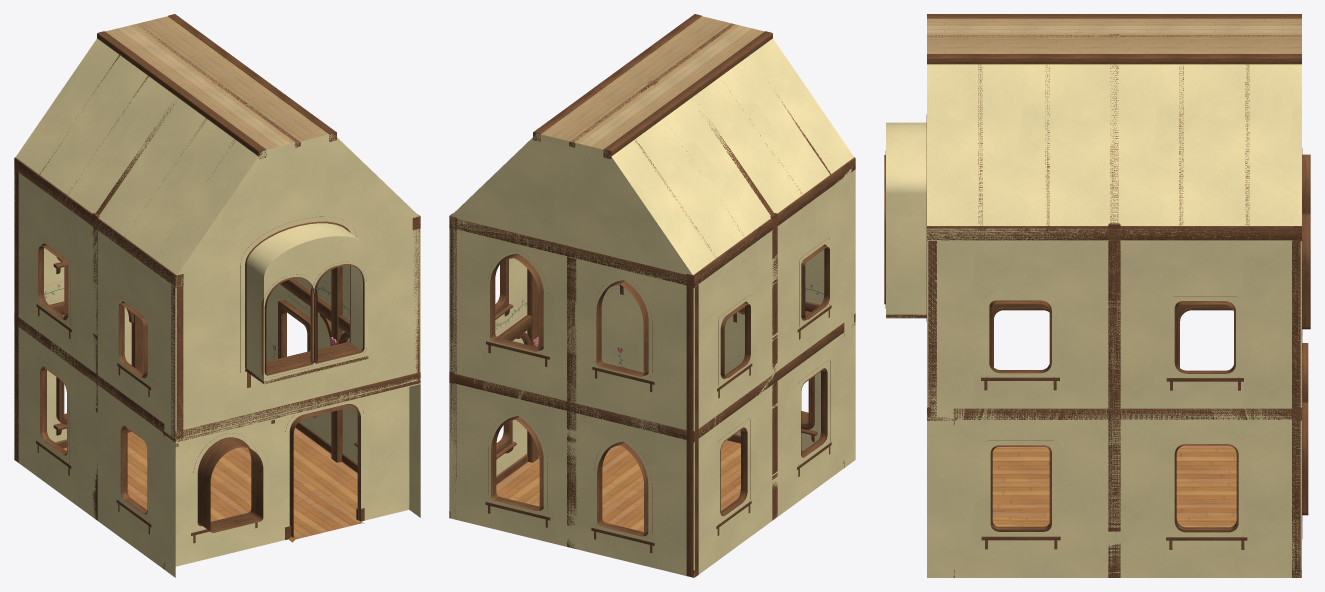
File: house_b_lining.glb
3 views of the same model, side by side, from view 1: azimuth 30°, elevation 25°; view 2: azimuth 150°, elevation 25°; view 3: azimuth 270°, elevation 25° (orthographic). The views are drawn at different scales.
Visible parts, largest first — view 1: Architecture_Walls, Architecture_Timber, Architecture_RoofPlaster, Architecture_Ceiling, Architecture_Floor, Architecture_RoofTimber; view 2: Architecture_Walls, Architecture_Timber, Architecture_RoofPlaster, Architecture_Ceiling, Architecture_Floor, Architecture_RoofTimber; view 3: Architecture_Walls, Architecture_RoofPlaster, Architecture_Timber, Architecture_Ceiling, Architecture_Floor, Architecture_RoofTimber.
Boxes of the visible parts, x1=… form: Architecture_Walls: x1=14, y1=134, x2=420, y2=577; Architecture_Timber: x1=14, y1=157, x2=420, y2=569; Architecture_RoofPlaster: x1=16, y1=38, x2=258, y2=274; Architecture_Ceiling: x1=105, y1=16, x2=328, y2=149; Architecture_Floor: x1=63, y1=427, x2=364, y2=542; Architecture_RoofTimber: x1=39, y1=14, x2=336, y2=250; Architecture_Walls: x1=449, y1=133, x2=855, y2=577; Architecture_Timber: x1=449, y1=157, x2=855, y2=577; Architecture_RoofPlaster: x1=611, y1=38, x2=853, y2=274; Architecture_Ceiling: x1=541, y1=16, x2=764, y2=149; Architecture_Floor: x1=496, y1=440, x2=740, y2=531; Architecture_RoofTimber: x1=533, y1=14, x2=830, y2=257; Architecture_Walls: x1=886, y1=122, x2=1301, y2=577; Architecture_RoofPlaster: x1=927, y1=64, x2=1301, y2=225; Architecture_Timber: x1=884, y1=114, x2=1310, y2=577; Architecture_Ceiling: x1=927, y1=18, x2=1301, y2=53; Architecture_Floor: x1=992, y1=445, x2=1236, y2=527; Architecture_RoofTimber: x1=927, y1=14, x2=1301, y2=240.
Size of what is drawn, in the model's own units: 4.99 by 7.71 by 6.31.
5 materials, 5 textured.
